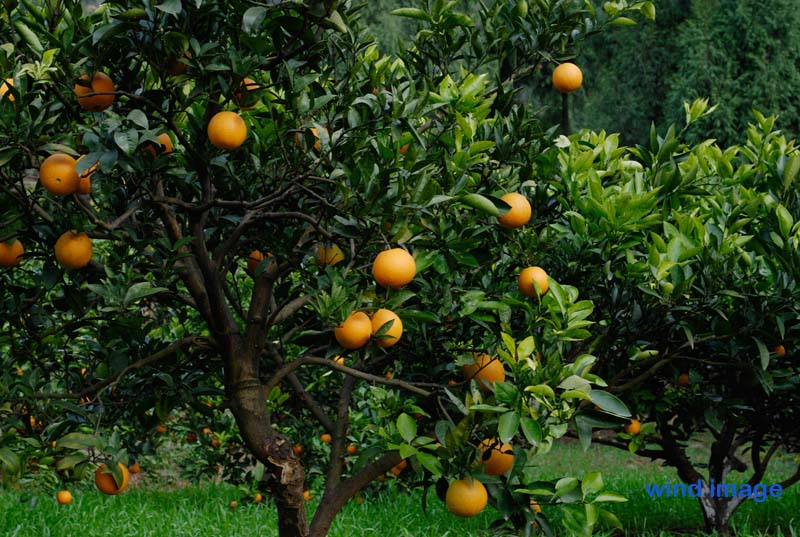orange: (374, 248, 416, 285), (205, 112, 247, 149), (40, 153, 82, 190), (52, 230, 94, 267), (75, 72, 117, 109), (467, 353, 506, 388), (476, 437, 515, 472), (448, 479, 487, 514), (332, 312, 371, 347), (366, 310, 405, 345), (497, 192, 531, 229), (95, 460, 129, 494), (518, 266, 552, 298), (551, 61, 584, 90), (1, 237, 23, 267), (56, 489, 68, 500)
